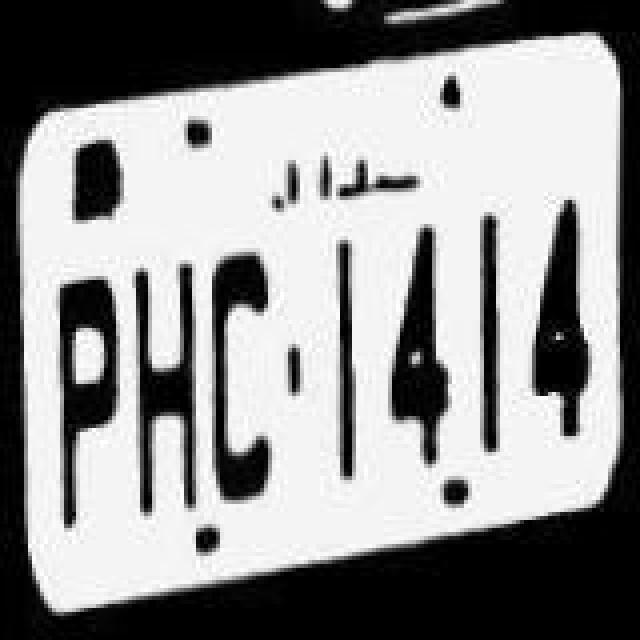1: (314, 230, 366, 494), (476, 200, 516, 468)
4: (530, 178, 606, 470), (386, 214, 462, 474)
C: (208, 240, 288, 504)
H: (130, 232, 202, 524)
P: (46, 268, 126, 540)
